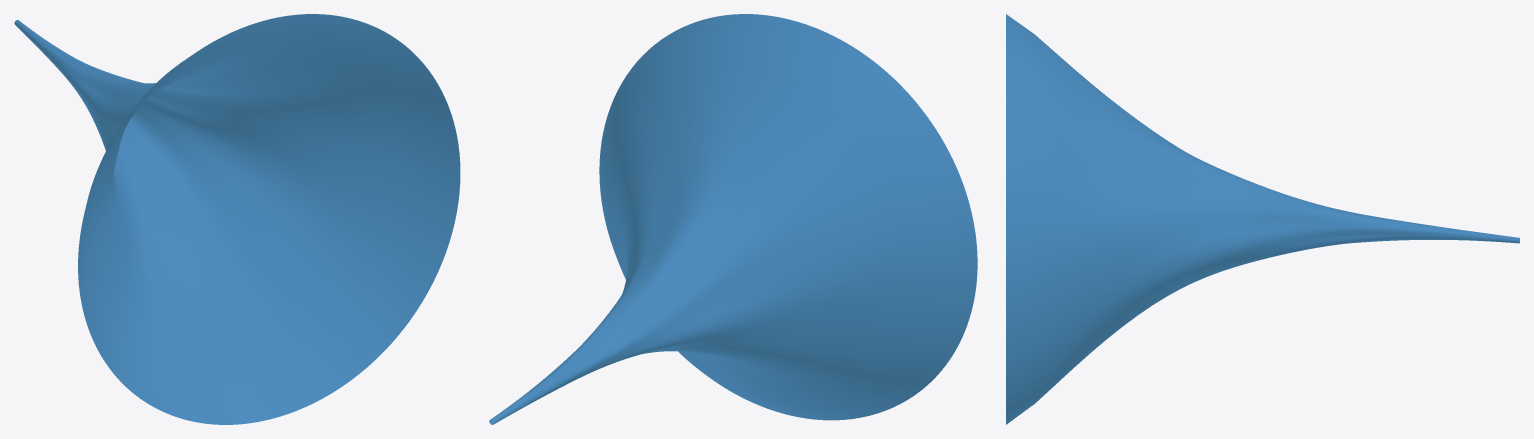
File: wormhole-nebula-v5.glb
3 renders of one model, left to right at view 1: azimuth 30°, elevation 25°; view 2: azimuth 150°, elevation 25°; view 3: azimuth 270°, elevation 25°, orthographic. The views are drawn at different scales.
Visible parts, largest first — view 1: nebula_continuous_throat; view 2: nebula_continuous_throat; view 3: nebula_continuous_throat.
Boxes of the visible parts, x1,y1,x2,y2 form: nebula_continuous_throat: (14,14,460,424); nebula_continuous_throat: (489,14,977,424); nebula_continuous_throat: (1006,14,1519,424).
Bounding box in the file's own units: 144 × 144 × 180.
